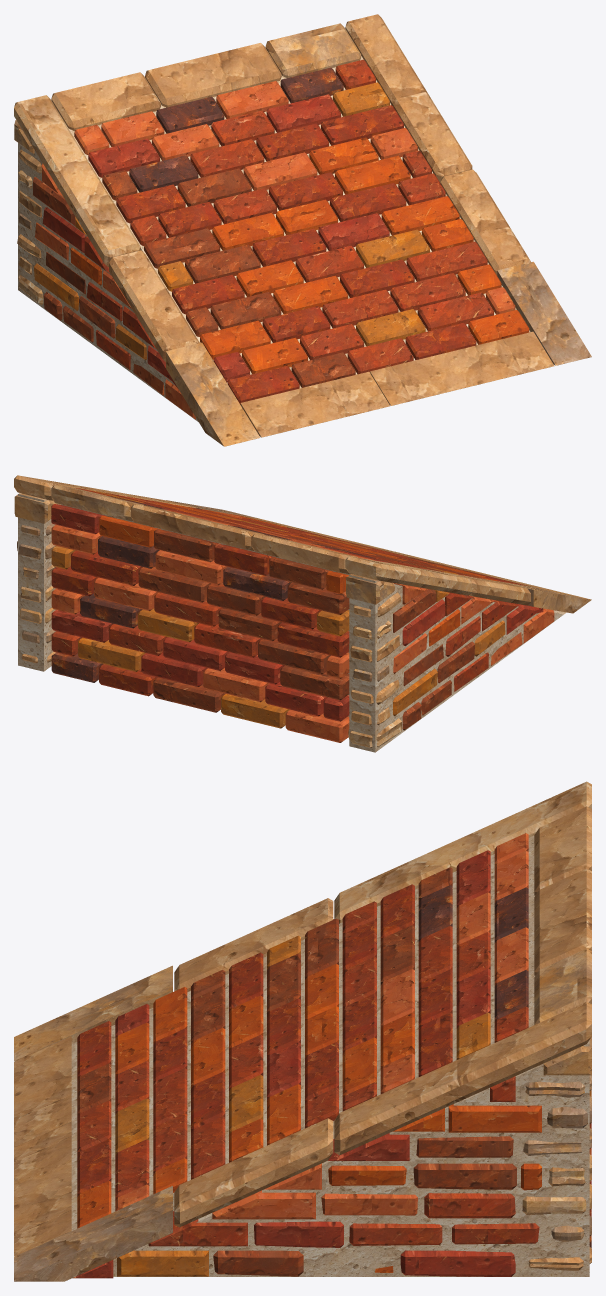
The model's file is ramp__clay_brick.glb.
3 views of the same model, one above another, from view 1: azimuth 30°, elevation 25°; view 2: azimuth 150°, elevation 25°; view 3: azimuth 270°, elevation 25° (orthographic). The views are drawn at different scales.
Parts seen in each view (by area): view 1: model; view 2: model; view 3: model.
Part boxes in pixels (bbox=[...]): model: bbox=[14, 14, 591, 446]; model: bbox=[14, 475, 591, 752]; model: bbox=[14, 781, 591, 1281].
Bounding box in the file's own units: 1.98 × 0.9781 × 1.98.
Materials: 13 (13 with a texture image).
